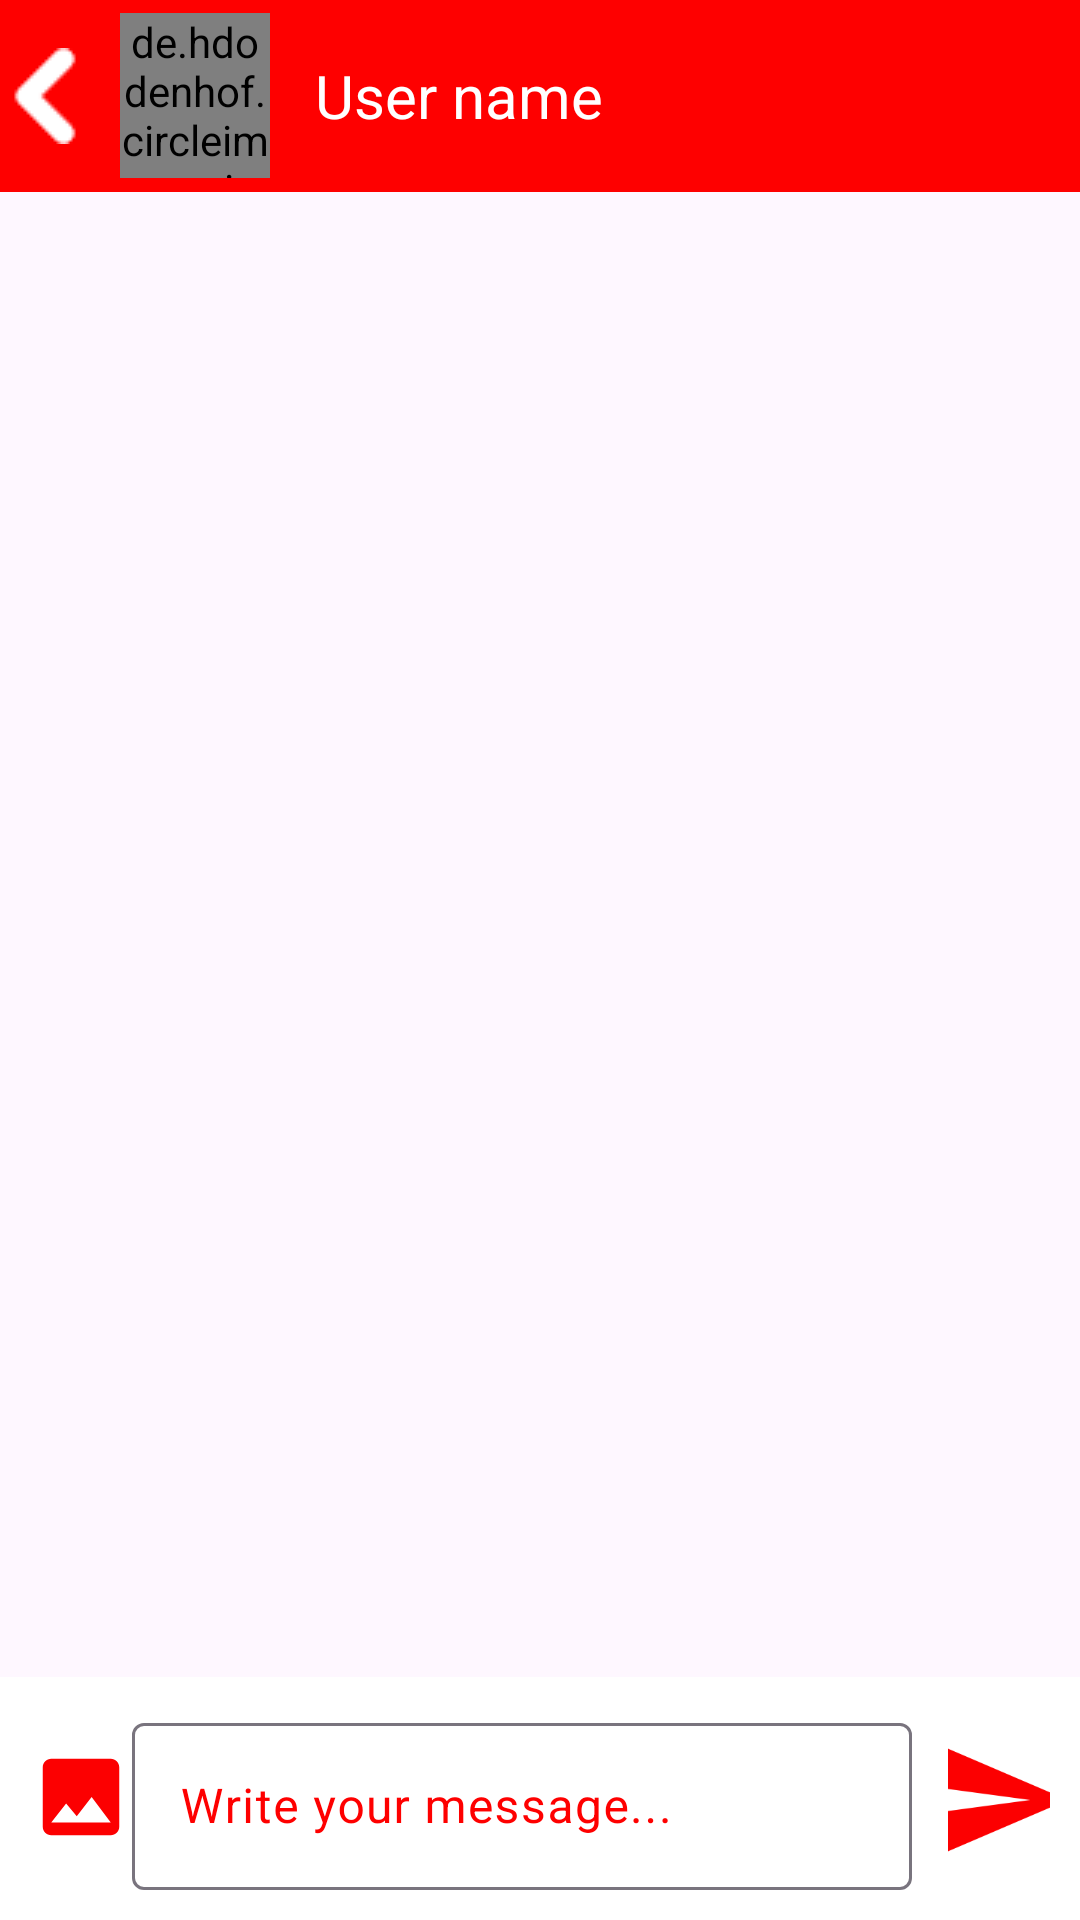

Where to tap for icons on this 1080*1920 app screen, as [x,y]:
left: [45,96]
send: [999,1800]
